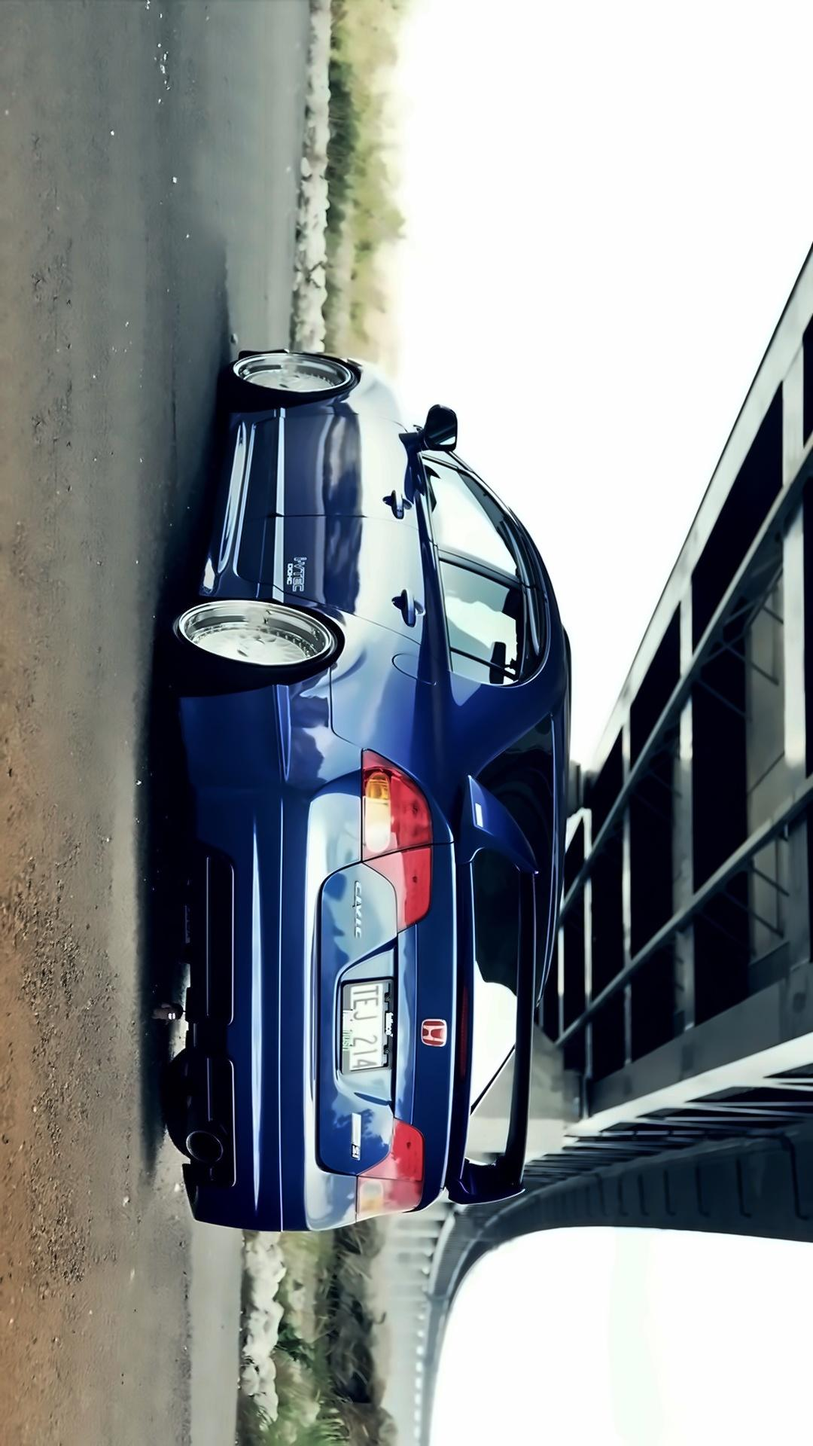Car boot: (304, 836, 481, 1193)
Fender - -F-L-: (232, 372, 421, 426)
Fender - -R-L-: (206, 573, 481, 753)
Passenger-s door - -F-L-: (241, 410, 554, 563)
Passenger-s door - -R-L-: (243, 508, 558, 689)
Rear bumper: (155, 661, 333, 1239)
Rear light - -L-: (351, 744, 443, 940)
Rear light - -R-: (348, 1107, 434, 1231)
Side bumper - -L-: (196, 399, 292, 618)
Side mirror - -L-: (411, 396, 478, 463)
